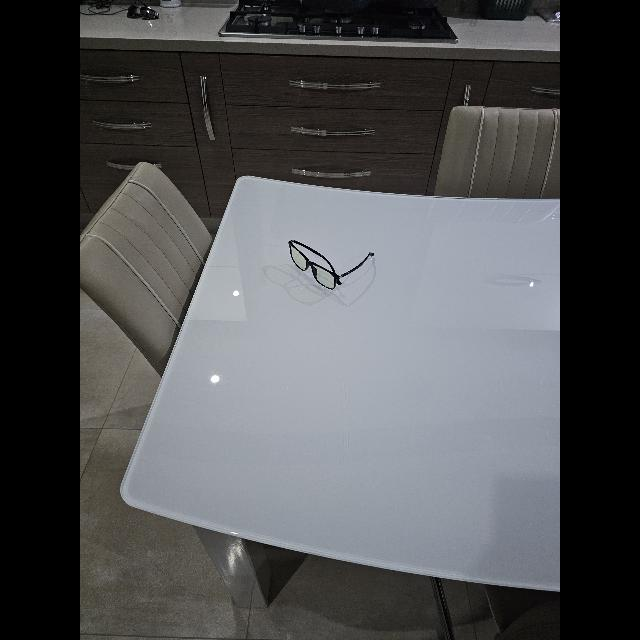Sunglasses: (127, 4, 159, 20)
glasses: (288, 240, 374, 290)
